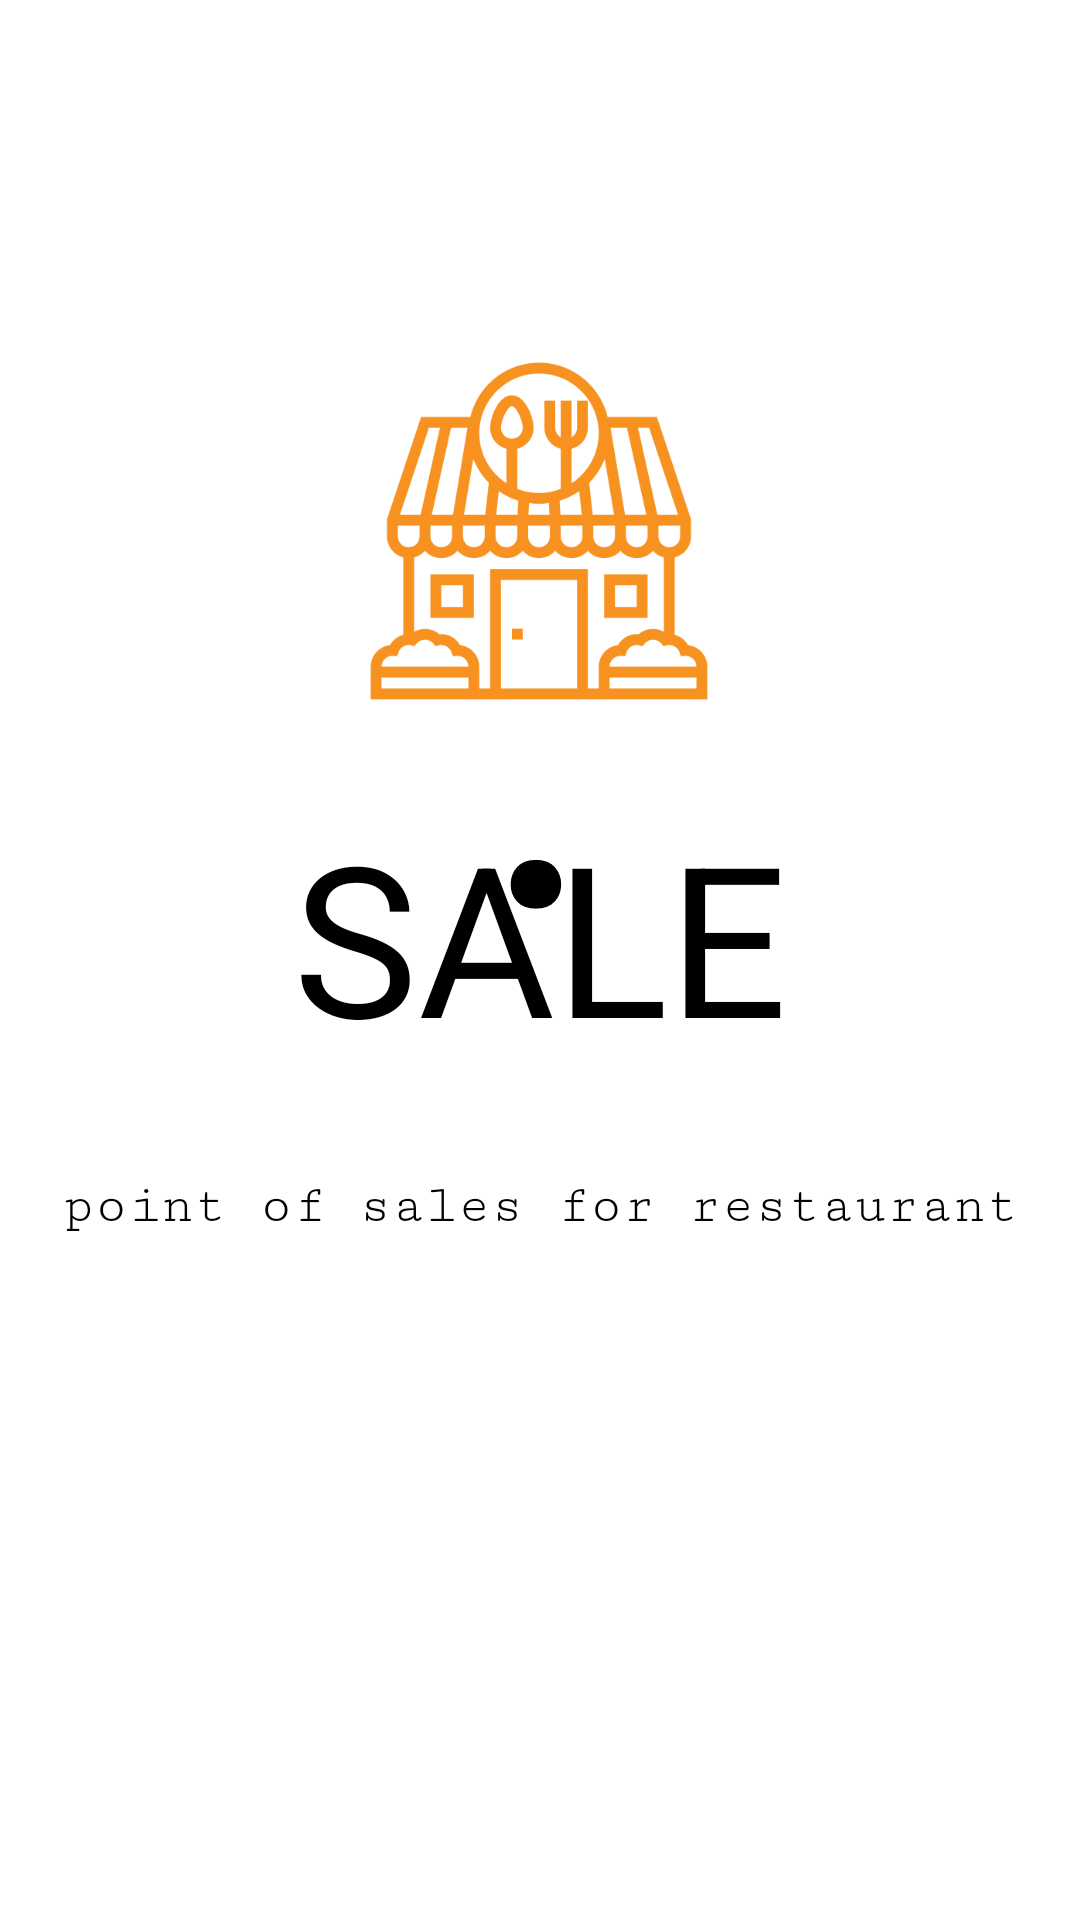

Icon click points for this 1080px x 1920px phone screenshot, format [x,y]:
restaurant: [539,531]
